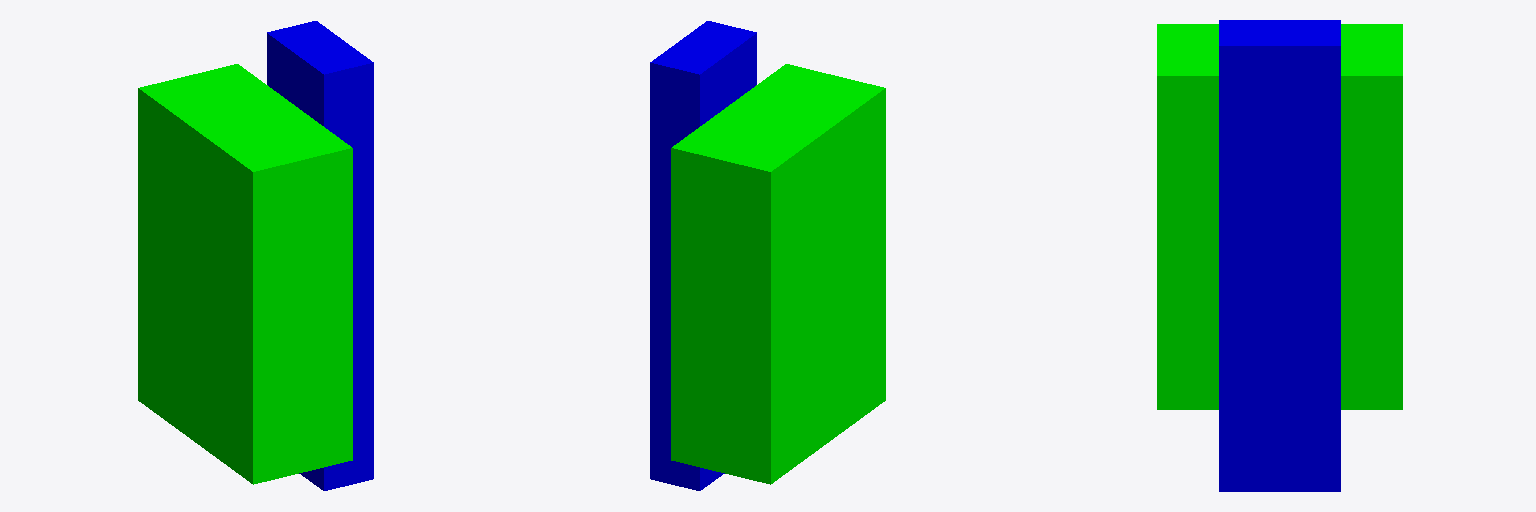
URDF robot description (joint1):
<?xml version="1.0" encoding="UTF-8" ?>
<robot name="joint1">

    <material name="green">
        <color rgba="0 1.0 0 0.5"/>
    </material>

    <material name="blue">
        <color rgba="0 0 1.0 0.5"/>
    </material>

    <!-- link -->
    <link name="base">
        <visual>
            <geometry>
                <!-- x y z -->
                <box size="0.2 0.4 0.6"/>
            </geometry>
            <material name="green"/>
        </visual>
    </link>

    <!-- link -->
    <link name="link2">
        <visual>
            <origin xyz="0.05 0 0" rpy="0 0 0"/>
            <geometry>
                <!-- x y z -->
                <box size="0.1 0.2 0.8"/>
            </geometry>
            <material name="blue"/>
        </visual>
    </link>

    <!-- joint: -->
    <joint name="joint0" type="revolute">
        <!-- who root -->
        <parent link="base"/>
        <!-- child -->
        <child link="link2"/>
        <origin xyz="0.1 0 0" rpy="0 0 0"/>
        <!-- xyz: vector x:1 y:1 z:1 -->
        <axis xyz="1 1 1"/>

        <limit effort="30" velocity="1.0" lower="-3.1415926" upper="3.1415926" />
    </joint>

</robot>

--- Facts derived from the render (not from the file) ---
3 views of the same robot in one strip: view 1: azimuth 30°, elevation 25°; view 2: azimuth 150°, elevation 25°; view 3: azimuth 270°, elevation 25° (orthographic).
Robot: joint1 — 2 links, 1 joints (1 revolute); root link base; default pose: all joints at 0.
Visible links, largest first — view 1: base, link2; view 2: base, link2; view 3: link2, base.
Link boxes in pixels (bbox=[...]): base: bbox=[138, 64, 352, 484]; link2: bbox=[267, 21, 373, 490]; base: bbox=[671, 64, 885, 484]; link2: bbox=[650, 21, 756, 490]; link2: bbox=[1219, 20, 1340, 491]; base: bbox=[1157, 24, 1402, 409].
Bounding box of the posed robot: 0.3 × 0.4 × 0.8 m (x, y, z).
Geometry: primitives only (box / cylinder / sphere), no mesh files.
